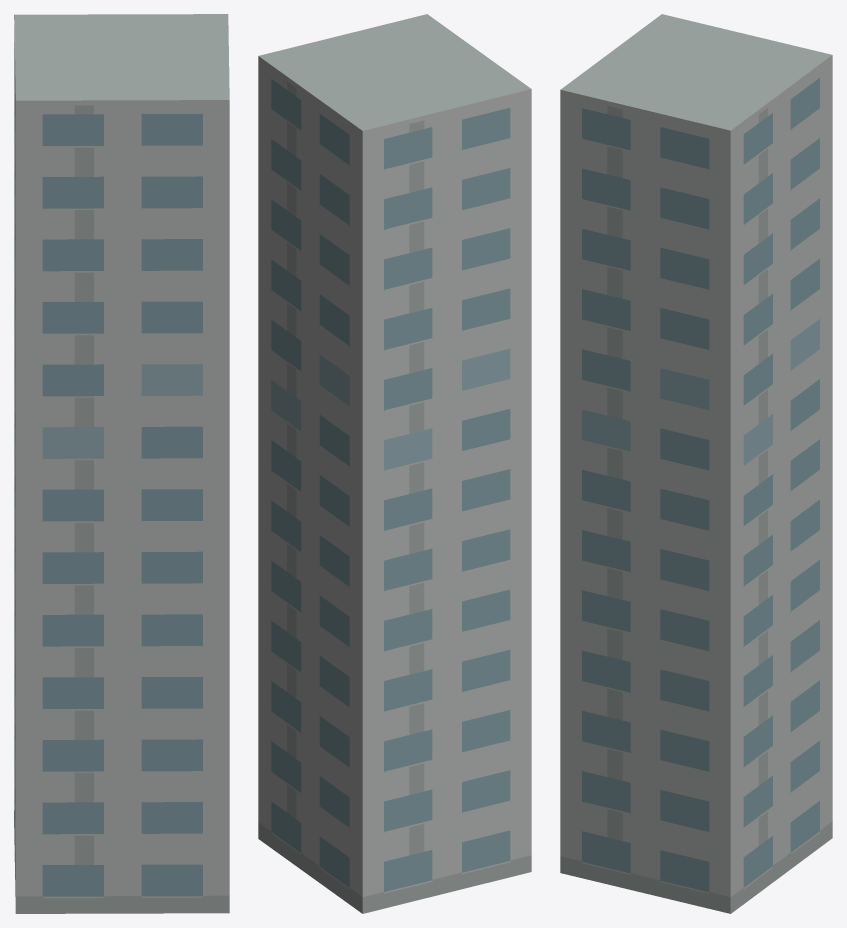
Rendered from residential-af5854b0-4695-4422-9d7e-a935feeaba4c.glb.
3 views of the same model, side by side, from view 1: azimuth 30°, elevation 25°; view 2: azimuth 150°, elevation 25°; view 3: azimuth 270°, elevation 25° (orthographic). The views are drawn at different scales.
Visible parts, largest first — view 1: residential-af5854b0-4695-4422-9d7e-a935feeaba4c.tmp; view 2: residential-af5854b0-4695-4422-9d7e-a935feeaba4c.tmp; view 3: residential-af5854b0-4695-4422-9d7e-a935feeaba4c.tmp.
Part boxes in pixels (x1=…): residential-af5854b0-4695-4422-9d7e-a935feeaba4c.tmp: x1=14, y1=14, x2=229, y2=913; residential-af5854b0-4695-4422-9d7e-a935feeaba4c.tmp: x1=258, y1=14, x2=531, y2=913; residential-af5854b0-4695-4422-9d7e-a935feeaba4c.tmp: x1=560, y1=14, x2=832, y2=913.
Size of the model in its own units: 12.78 by 40 by 12.6.
